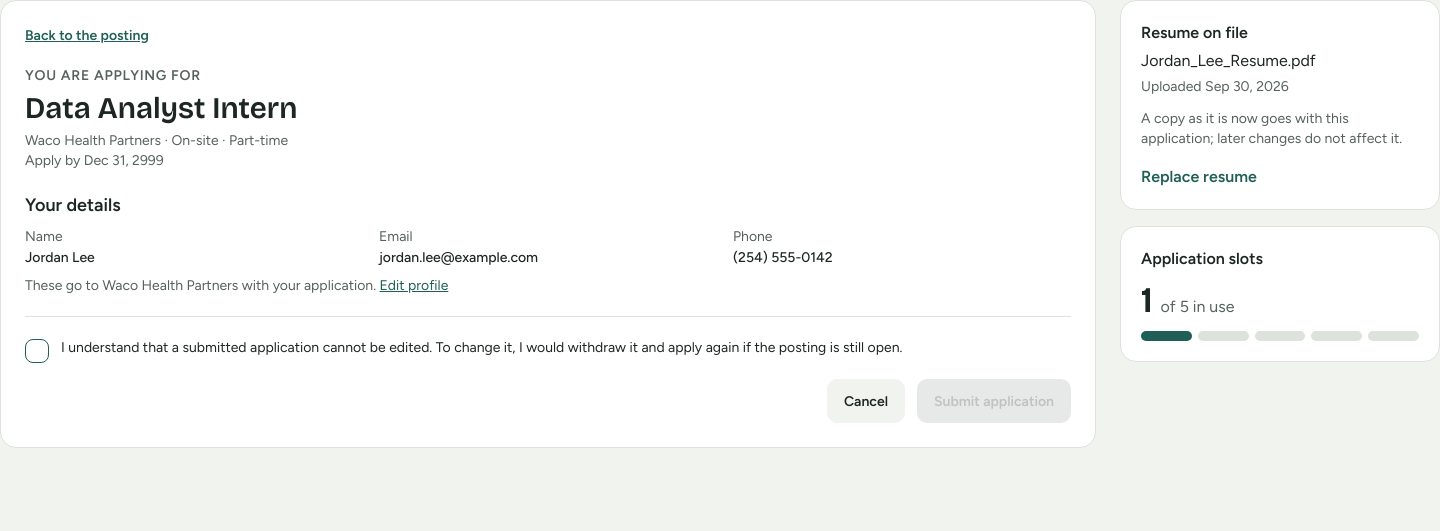
Test: ApplyForm › shows the reason the backend names when the submit is refused (extension 4b)
What coordinates should you click on to do the following:
click the checkbox
I would click on:
 (37, 351)
Its box is [25,339,49,363].
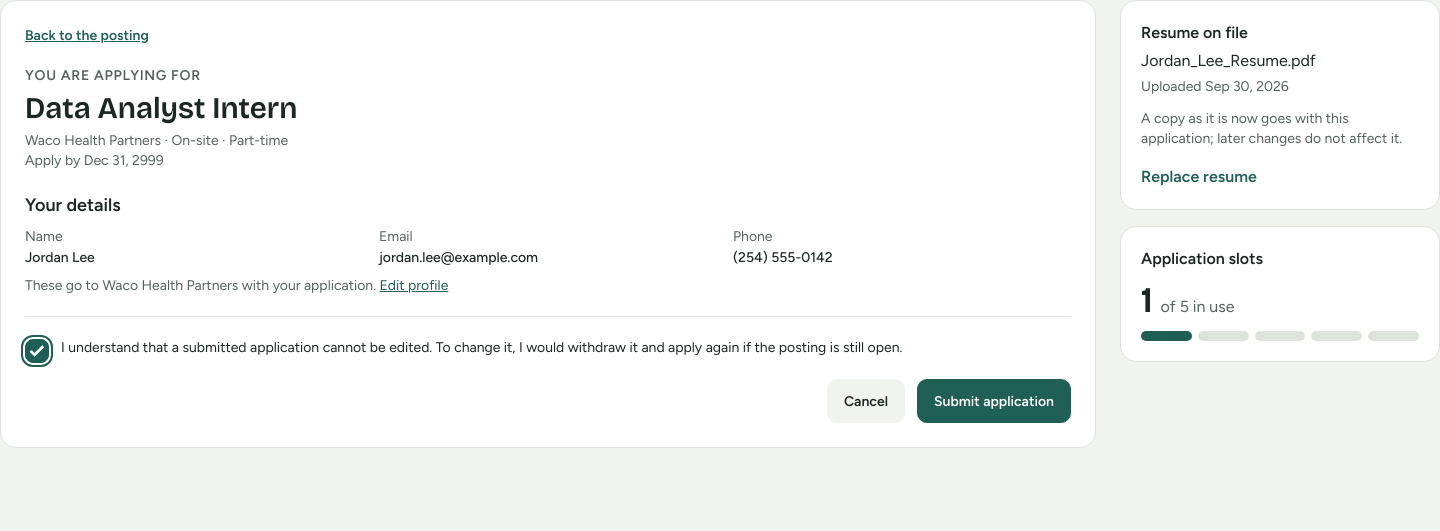
What coordinates should you click on to do the following:
click the button "Submit application"
I would click on:
 (994, 401)
Its box is [917,379,1071,423].
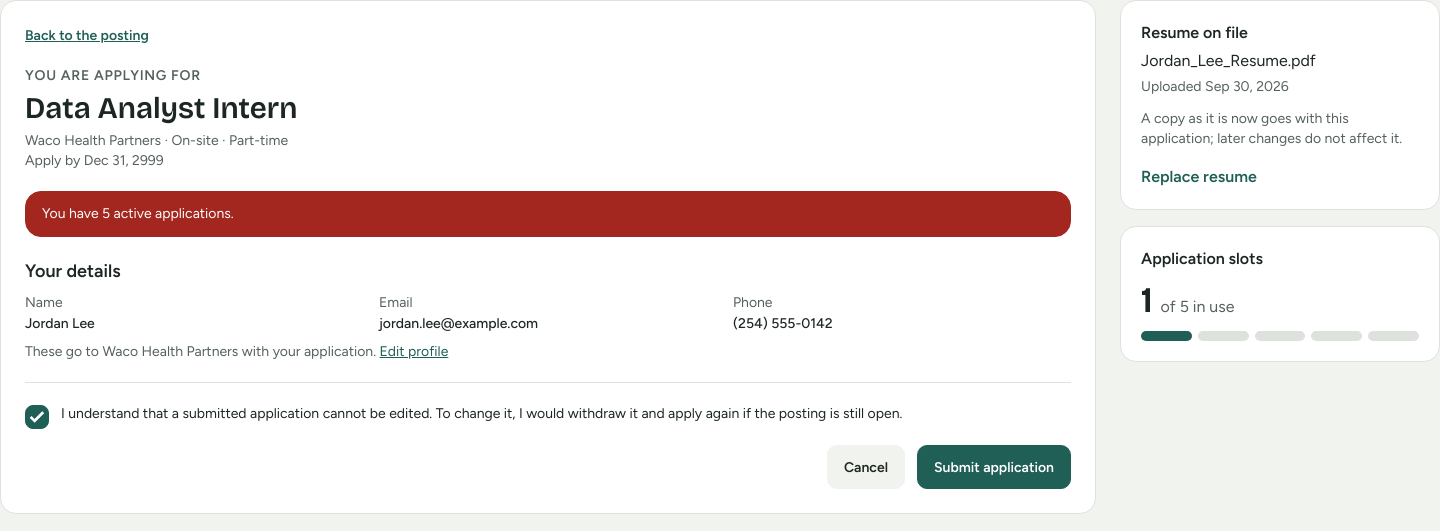
Now the message reads "You have 5 active applications.", box [42,205,234,222]
